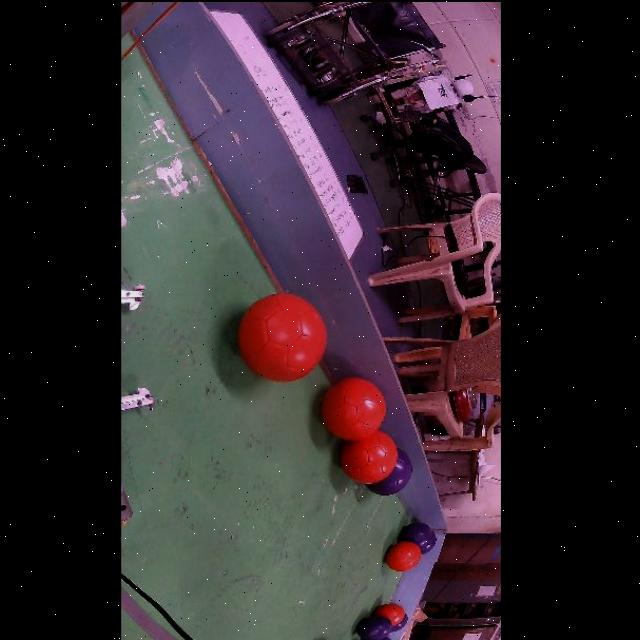P: (368, 448, 413, 494), (400, 522, 437, 553), (358, 614, 394, 640), (392, 613, 410, 631), (376, 635, 393, 640)
R: (239, 292, 328, 380), (322, 377, 386, 440), (341, 429, 399, 482), (387, 540, 421, 571), (374, 602, 406, 625)
